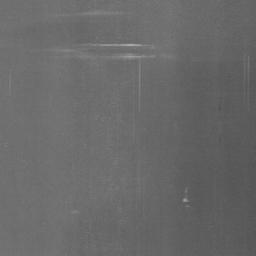Waist folding: (45, 41, 172, 61), (56, 8, 124, 18), (71, 208, 109, 215), (181, 186, 190, 209)
